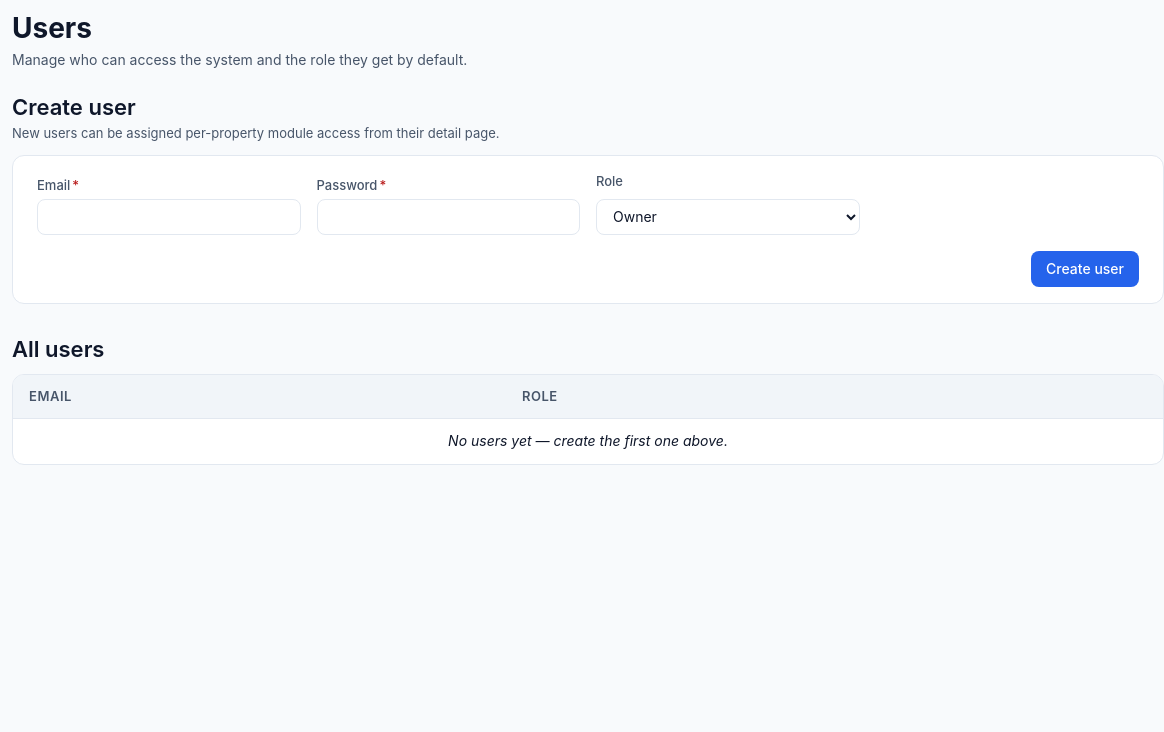
Test: UsersView › shows a danger banner when user creation fails
In the field labelled "Email*": (169, 217) left=37, top=199, right=300, bottom=235, type "dup@example.com"
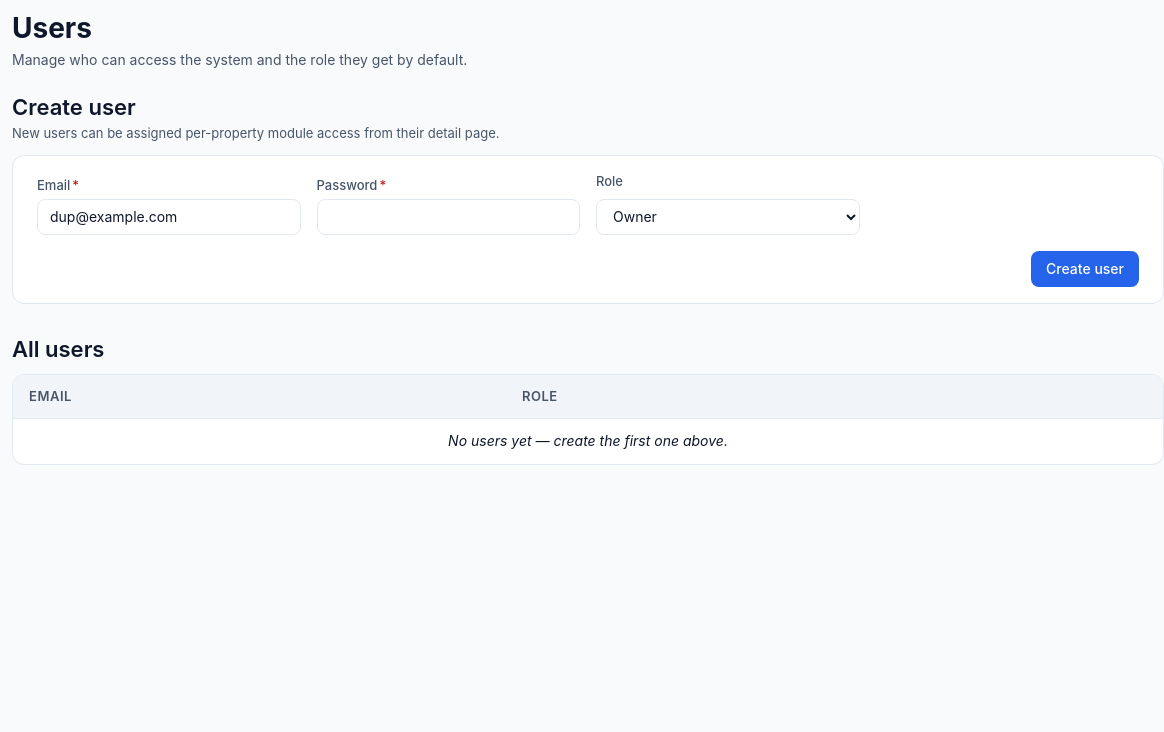
In the password field labelled "Password*": (448, 217) left=316, top=199, right=580, bottom=235, type "pw"
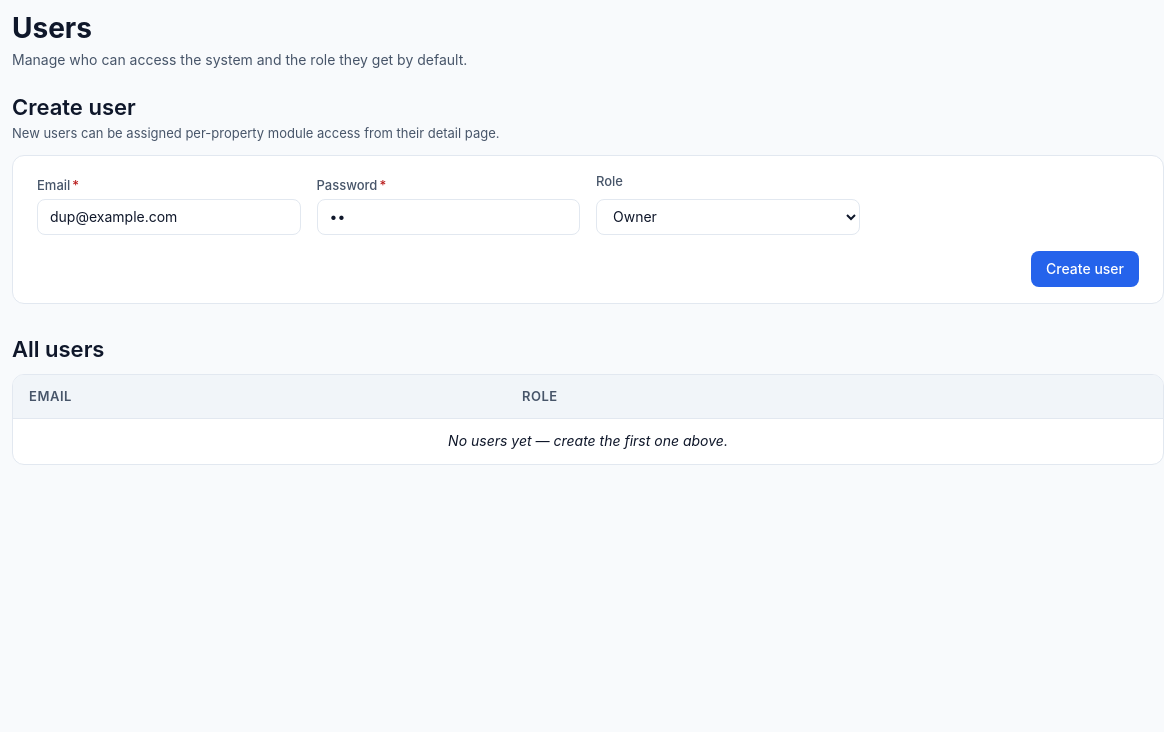
Submit the form, box left=37, top=172, right=1139, bottom=287
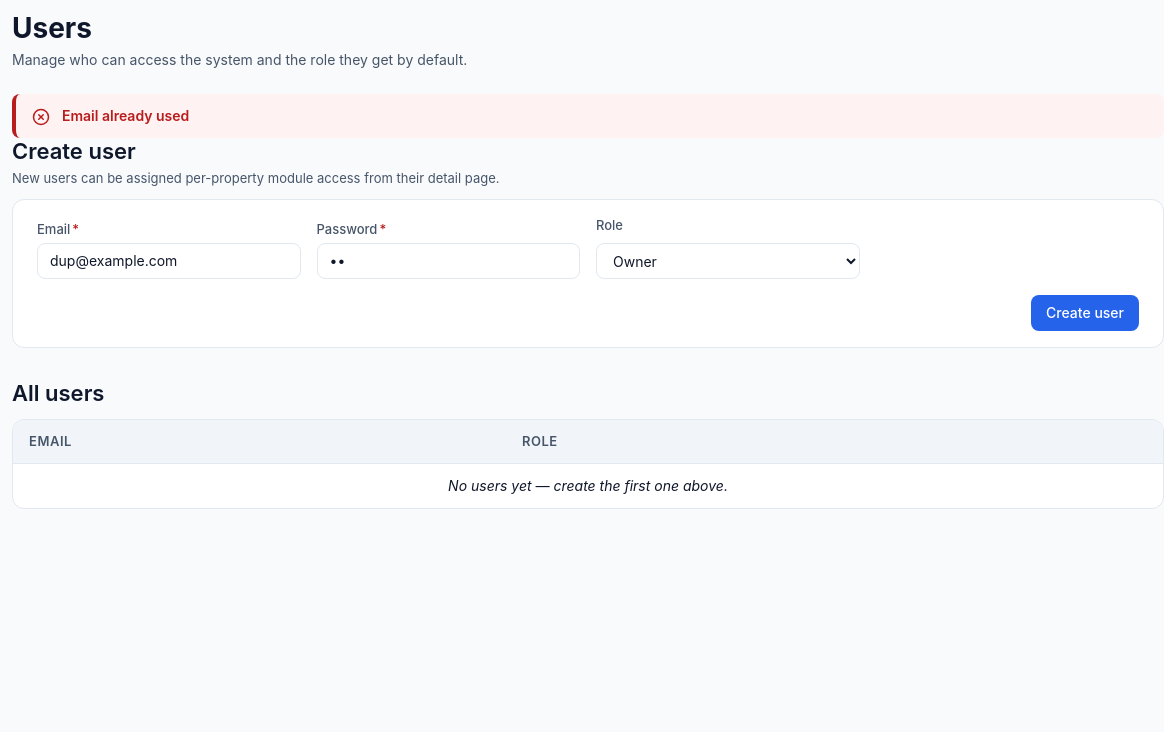
Check: the text "Email already used" is shown, box left=62, top=107, right=189, bottom=124
